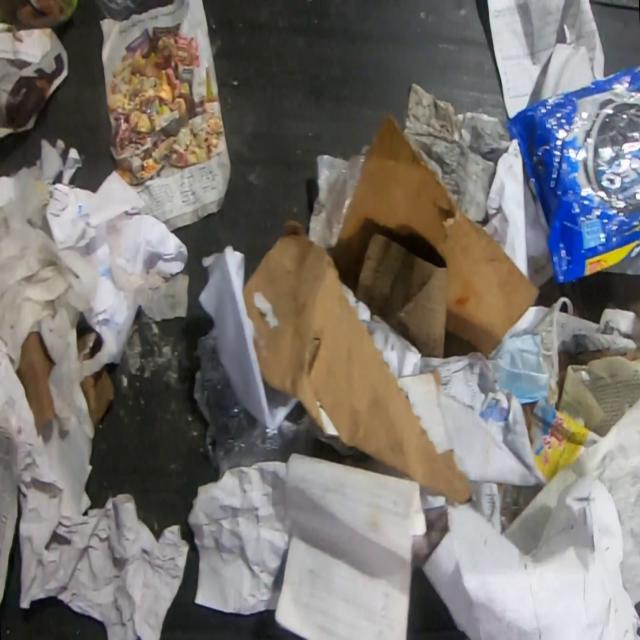cardboard: (332, 115, 542, 360), (355, 233, 449, 360)
soft_plastic: (504, 61, 640, 284), (192, 329, 316, 483), (306, 146, 370, 250)
